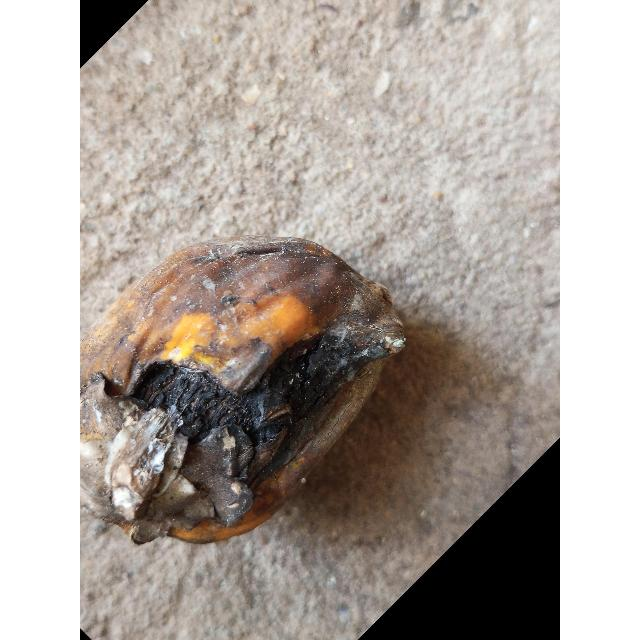damaged: (80, 238, 407, 551)
